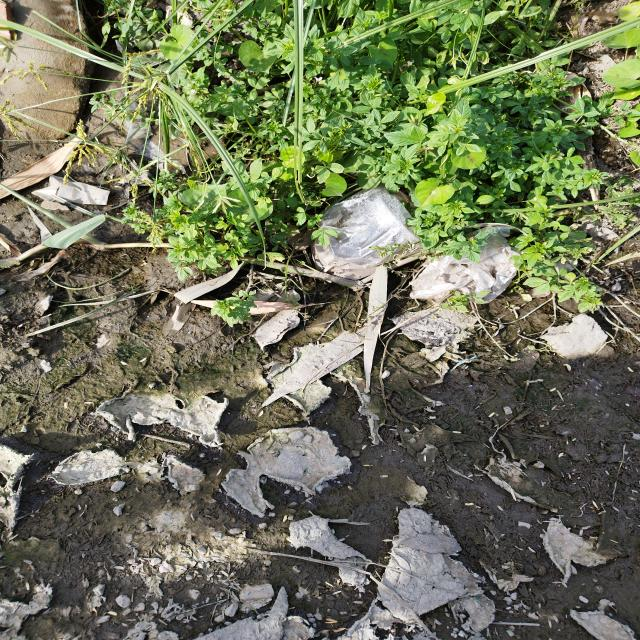bag: (408, 226, 521, 304)
trash bag: (318, 188, 422, 270)
